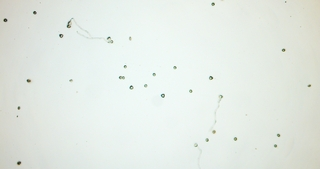germinated: (105, 35, 114, 44), (216, 92, 224, 101), (192, 142, 201, 150), (67, 17, 74, 25)
nongerminated: (58, 32, 66, 40), (1, 17, 8, 25), (15, 104, 23, 111), (203, 136, 210, 143), (122, 62, 129, 69), (128, 83, 134, 91), (187, 87, 194, 93), (171, 64, 178, 70), (31, 9, 37, 16), (25, 77, 31, 84), (281, 46, 287, 52), (232, 135, 238, 141), (208, 74, 214, 80), (211, 128, 217, 134), (159, 92, 165, 98), (306, 82, 311, 88), (273, 142, 278, 148), (209, 1, 215, 6), (151, 71, 157, 76), (15, 160, 21, 165), (276, 132, 281, 137), (143, 82, 148, 87), (121, 74, 126, 79), (117, 75, 122, 80), (66, 24, 71, 29)
